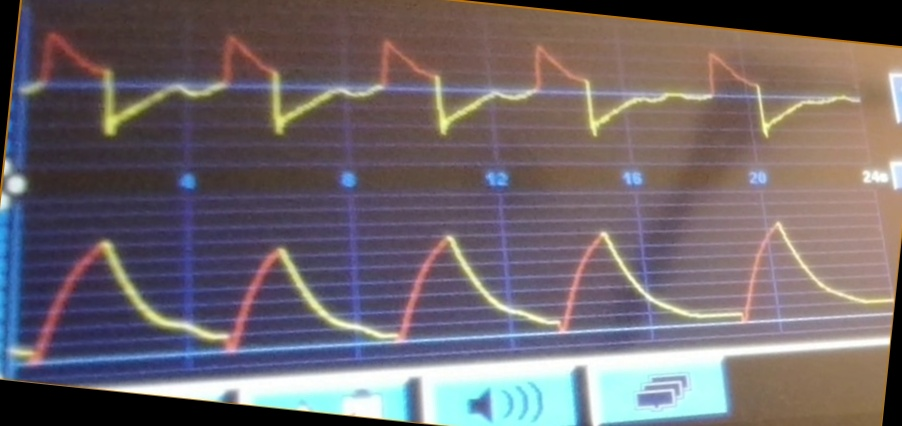Ineffective_effort Flow: (27, 30, 859, 150)
Ineffective_effort Volume: (17, 218, 888, 359)
